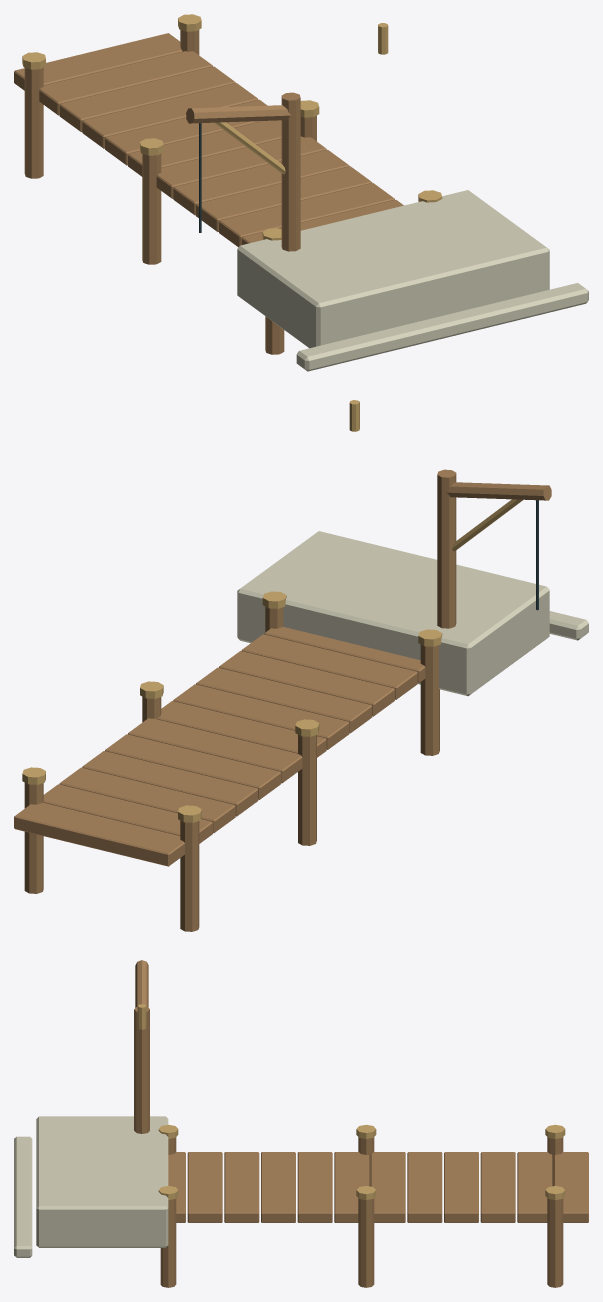
Rendered from level_12.glb.
3 renders of one model, top to bottom at view 1: azimuth 30°, elevation 25°; view 2: azimuth 150°, elevation 25°; view 3: azimuth 270°, elevation 25°, orthographic. The views are drawn at different scales.
Visible parts, largest first — view 1: dock — level 12; view 2: dock — level 12; view 3: dock — level 12.
Boxes of the visible parts, x1=… form: dock — level 12: x1=14, y1=14, x2=588, y2=371; dock — level 12: x1=14, y1=400, x2=588, y2=931; dock — level 12: x1=14, y1=960, x2=588, y2=1287.
Size of the model in its own units: 4.53 by 4.24 by 8.71.
